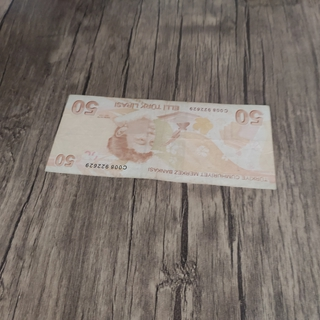50TLBack: (44, 93, 277, 190)
